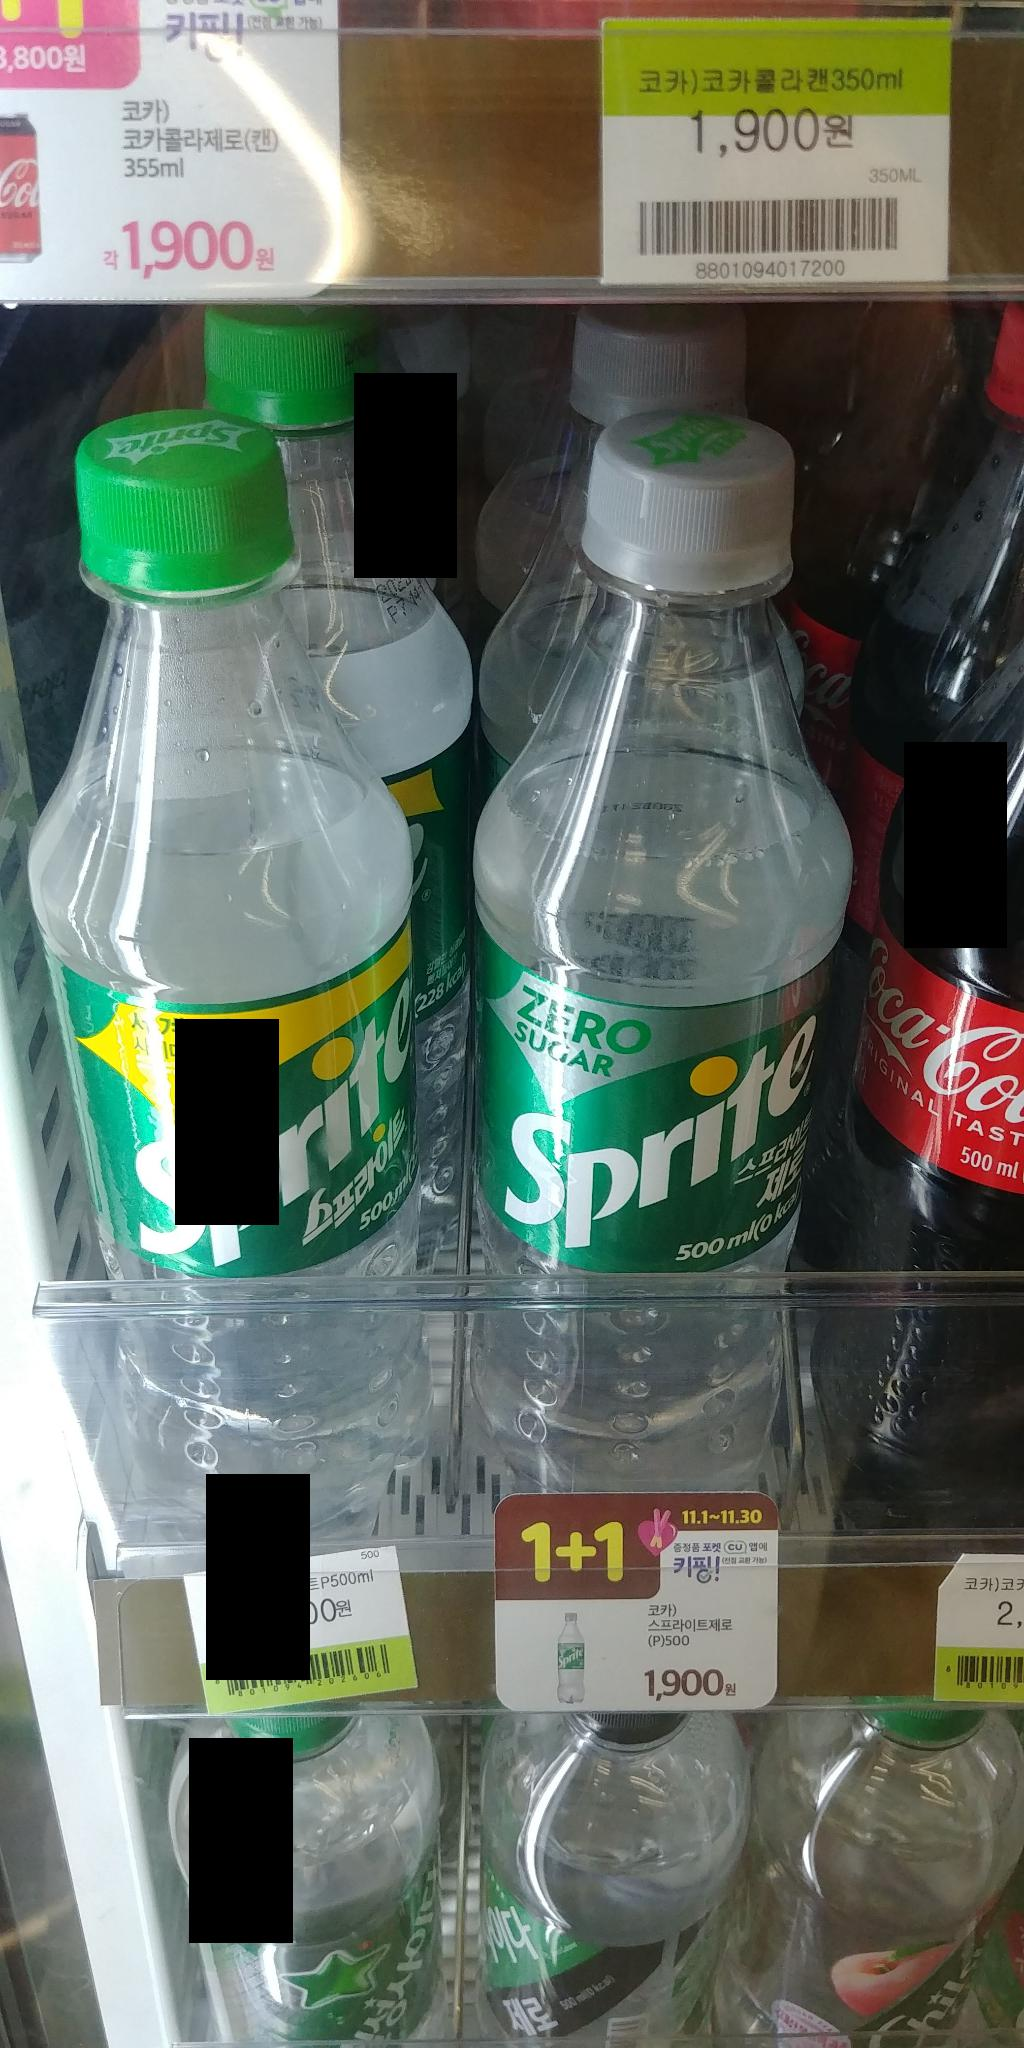sprite_zero: (479, 418, 815, 1485)
